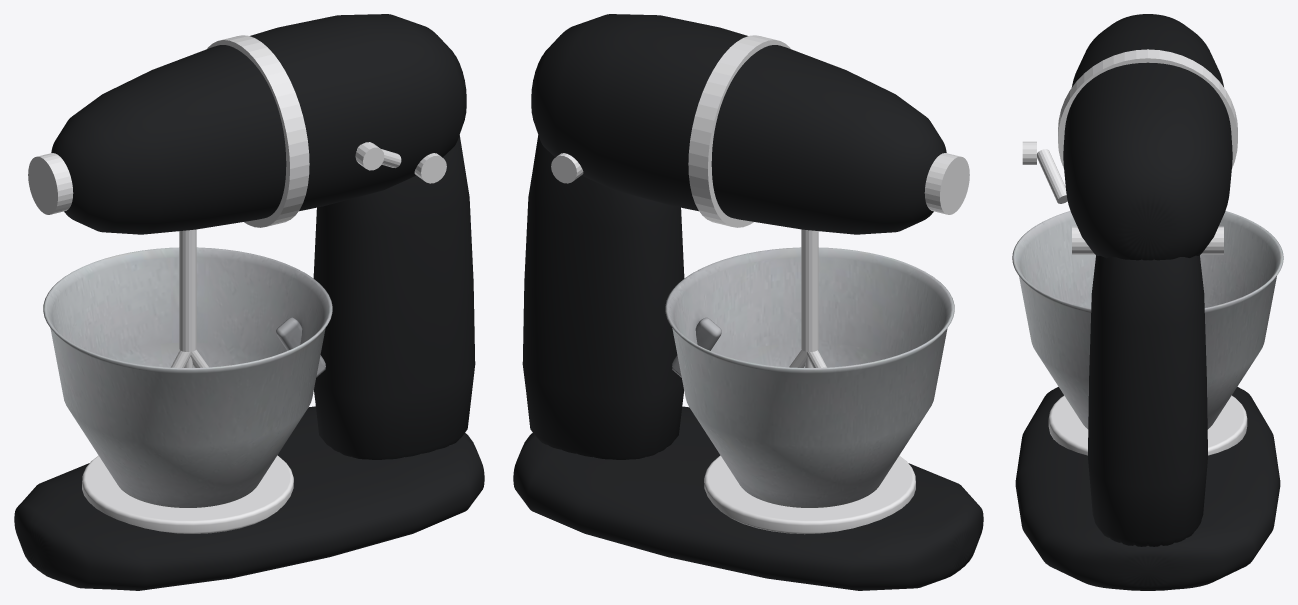
Rendered from black.glb.
3 views of the same model, side by side, from view 1: azimuth 30°, elevation 25°; view 2: azimuth 150°, elevation 25°; view 3: azimuth 270°, elevation 25° (orthographic). The views are drawn at different scales.
Parts seen in each view (by area): view 1: paint_primary, steel, chrome; view 2: paint_primary, steel, chrome; view 3: paint_primary, steel, chrome.
Boxes of the visible parts, bbox=[...] form: paint_primary: bbox=[14, 14, 484, 590]; steel: bbox=[43, 247, 332, 507]; chrome: bbox=[28, 35, 446, 533]; paint_primary: bbox=[513, 14, 983, 590]; steel: bbox=[665, 247, 954, 507]; chrome: bbox=[551, 35, 969, 534]; paint_primary: bbox=[1015, 14, 1280, 590]; steel: bbox=[1012, 211, 1283, 429]; chrome: bbox=[1022, 49, 1247, 455].
Bounding box in the file's own units: 0.3961 × 0.425 × 0.232.
3 materials, 1 textured.
